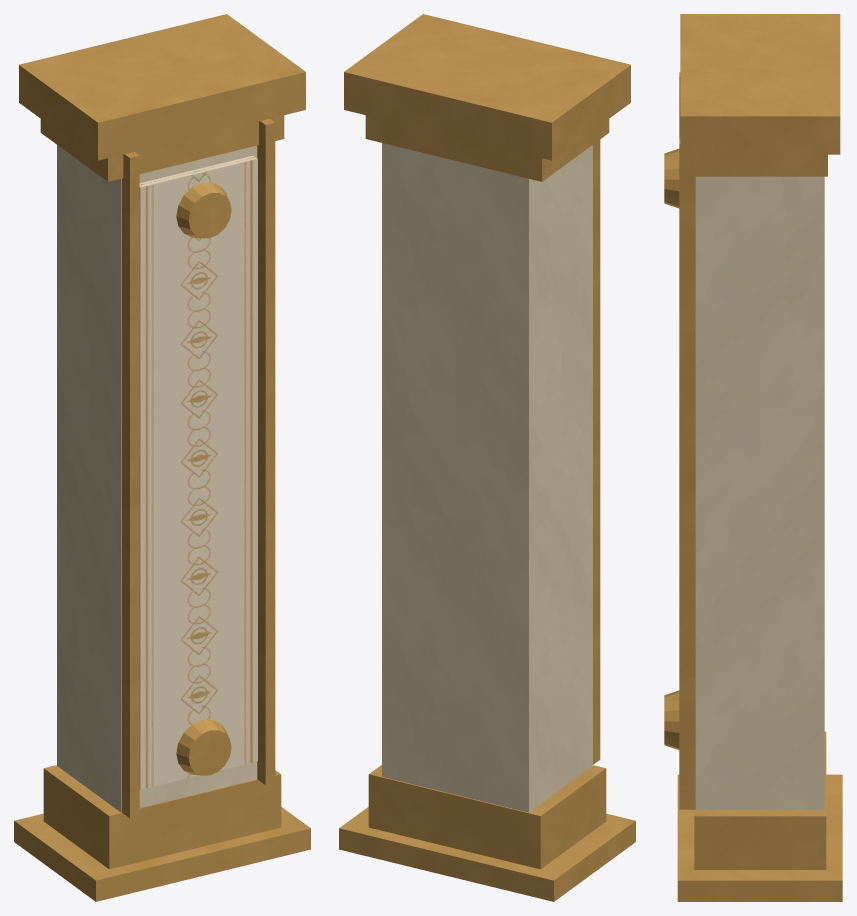
File: SM_Theater_Stage_ProsceniumPost.fbx
3 views of the same model, side by side, from view 1: azimuth 30°, elevation 25°; view 2: azimuth 150°, elevation 25°; view 3: azimuth 270°, elevation 25° (orthographic).
Visible parts, largest first — view 1: SM_Theater_Stage_ProsceniumPost_LOD0; view 2: SM_Theater_Stage_ProsceniumPost_LOD0; view 3: SM_Theater_Stage_ProsceniumPost_LOD0.
Boxes of the visible parts, bbox=[...] form: SM_Theater_Stage_ProsceniumPost_LOD0: bbox=[14, 14, 310, 901]; SM_Theater_Stage_ProsceniumPost_LOD0: bbox=[339, 14, 635, 901]; SM_Theater_Stage_ProsceniumPost_LOD0: bbox=[664, 14, 842, 901].
Size of what is drawn, in the model's own units: 1.9 by 6.57 by 1.36.
